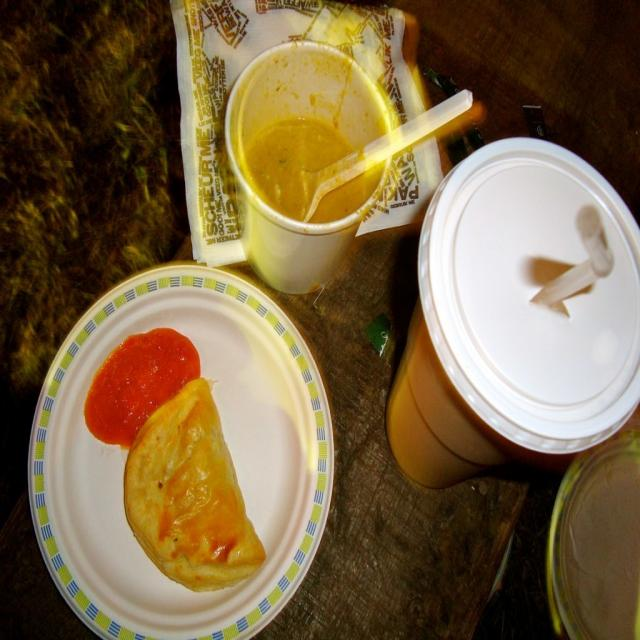non-organic waste: (26, 243, 375, 640), (418, 72, 640, 473)
